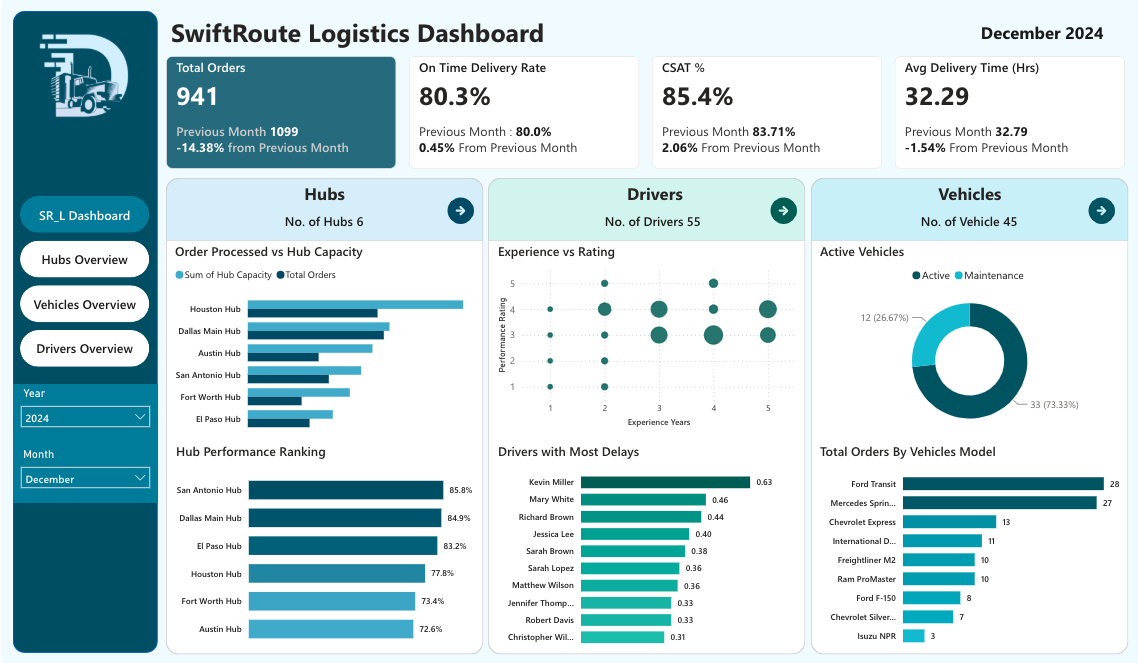

The page's visual inventory and layout, read from the dashboard file:
{"tool":"powerbi","page":{"name":"SR_L Dashboard","canvas":[1450,850],"ordinal":0},"visuals":[{"type":"shape","box":[14.1,15.4,184.6,819.2],"z":0,"group":"g1"},{"type":"textbox","box":[210.3,15.4,503.8,57.7],"z":0},{"type":"cardVisual","fields":{"Data":["Orders.Total Orderts","Orders.On Time Delivery Rate","Orders.CSAT %","Orders.Avg Delivery Time (Hrs)"]},"box":[209.9,72.3,1227.5,144],"z":1000},{"type":"shape","box":[209.9,228.3,405,608],"z":2000},{"type":"shape","box":[209.9,228.3,404.9,80.3],"z":3000},{"type":"slicer","fields":{"Values":["Date Table.Year"]},"box":[13.7,491.1,185,78.8],"z":3000,"group":"g1"},{"type":"textbox","box":[378.6,228.3,65.4,43.6],"z":4000},{"type":"slicer","fields":{"Values":["Date Table.Month"]},"box":[13.7,569.9,185,74.2],"z":4000,"group":"g1"},{"type":"cardVisual","title":"No of Hubs","fields":{"Data":["Hubs.No of Hubs"]},"box":[336.1,260.4,151.4,43.6],"z":5000},{"type":"clusteredBarChart","title":"Order Processed vs Hub Capacity","fields":{"Category":["Hubs.HubName"],"Y":["Sum(Hubs.Hub Capacity)","Orders.Total Orders"]},"box":[216,312,392.3,252],"z":6000},{"type":"barChart","title":"Hub Performance Ranking","fields":{"Category":["Hubs.HubName"],"Y":["Orders.On Time Delivery Rate"]},"box":[216.8,566.7,392.3,269.6],"z":7000},{"type":"shape","box":[620.6,228.3,404.9,608],"z":8000},{"type":"shape","box":[620.6,228.3,404.9,80.3],"z":9000},{"type":"textbox","box":[785.8,228.3,94.1,43.6],"z":10000},{"type":"cardVisual","title":"No of Hubs","fields":{"Data":["Drivers.No. of Drivers"]},"box":[745.6,260.4,173.2,43.6],"z":11000},{"type":"shape","box":[1032.4,228.3,404.9,608],"z":12000},{"type":"shape","box":[1032.4,228,404.9,80.3],"z":13000},{"type":"textbox","box":[1188.4,228.3,94.1,43.6],"z":14000},{"type":"cardVisual","title":"No of Hubs","fields":{"Data":["Vehicles.No. of Vehicle"]},"box":[1148.3,260.4,173.2,43.6],"z":15000},{"type":"scatterChart","title":"Experience vs Rating","fields":{"Size":["Sum(Drivers.Experience Years)1"],"X":["Drivers.Experience Years"],"Y":["Drivers.Performance Rating"]},"box":[627.5,312,392.3,240.9],"z":16000},{"type":"barChart","title":"Drivers with Most Delays","fields":{"Category":["Drivers.DriverName"],"Y":["Orders.Delayed Delivery Rate"]},"box":[627.5,566.7,392.3,269.6],"z":17000},{"type":"donutChart","title":"Active Vehicles","fields":{"Category":["Vehicles.Vehicle Status"],"Y":["CountNonNull(Vehicles.Vehicle ID)"]},"box":[1039.3,312,392.3,251.2],"z":18000},{"type":"barChart","title":"Total Orders By Vehicles Model","fields":{"Category":["Vehicles.Vehicle Model"],"Y":["Orders.Total Orders"]},"box":[1039.3,566.7,392.3,269.6],"z":19000},{"type":"cardVisual","title":"No of Hubs","fields":{"Data":["Orders.Year Month Title"]},"box":[1225.7,15.3,206.8,52.5],"z":20000},{"type":"image","box":[565.2,250,40,40],"z":21000},{"type":"image","box":[977.3,250,40,40],"z":22000},{"type":"image","box":[32,33.1,148.4,138.1],"z":23000,"group":"g1"},{"type":"image","box":[1383.8,250,40,40],"z":23000},{"type":"group","id":"g1","title":"Group 1","box":[13.7,15.4,185,819.2],"z":24000},{"type":"pageNavigator","box":[22.8,251.2,165.6,220.4],"z":25000,"group":"g1"}]}

Visuals, with their boxes in screenshot pixels (x1, y1, x2, y2), scaled from the page's 1450x850 canvas onto the 1138x663 screenshot:
shape: bbox=(11, 12, 156, 651)
textbox: bbox=(165, 12, 560, 57)
cardVisual - Orders.Total Orderts x Orders.On Time Delivery Rate: bbox=(165, 56, 1128, 169)
shape: bbox=(165, 178, 483, 652)
shape: bbox=(165, 178, 483, 241)
slicer - Date Table.Year: bbox=(11, 383, 156, 445)
textbox: bbox=(297, 178, 348, 212)
slicer - Date Table.Month: bbox=(11, 445, 156, 502)
"No of Hubs" cardVisual: bbox=(264, 203, 383, 237)
"Order Processed vs Hub Capacity" clusteredBarChart: bbox=(170, 243, 477, 440)
"Hub Performance Ranking" barChart: bbox=(170, 442, 478, 652)
shape: bbox=(487, 178, 805, 652)
shape: bbox=(487, 178, 805, 241)
textbox: bbox=(617, 178, 691, 212)
"No of Hubs" cardVisual: bbox=(585, 203, 721, 237)
shape: bbox=(810, 178, 1128, 652)
shape: bbox=(810, 178, 1128, 240)
textbox: bbox=(933, 178, 1007, 212)
"No of Hubs" cardVisual: bbox=(901, 203, 1037, 237)
"Experience vs Rating" scatterChart: bbox=(492, 243, 800, 431)
"Drivers with Most Delays" barChart: bbox=(492, 442, 800, 652)
"Active Vehicles" donutChart: bbox=(816, 243, 1124, 439)
"Total Orders By Vehicles Model" barChart: bbox=(816, 442, 1124, 652)
"No of Hubs" cardVisual: bbox=(962, 12, 1124, 53)
image: bbox=(444, 195, 475, 226)
image: bbox=(767, 195, 798, 226)
image: bbox=(25, 26, 142, 134)
image: bbox=(1086, 195, 1117, 226)
"Group 1" group: bbox=(11, 12, 156, 651)
pageNavigator: bbox=(18, 196, 148, 368)
